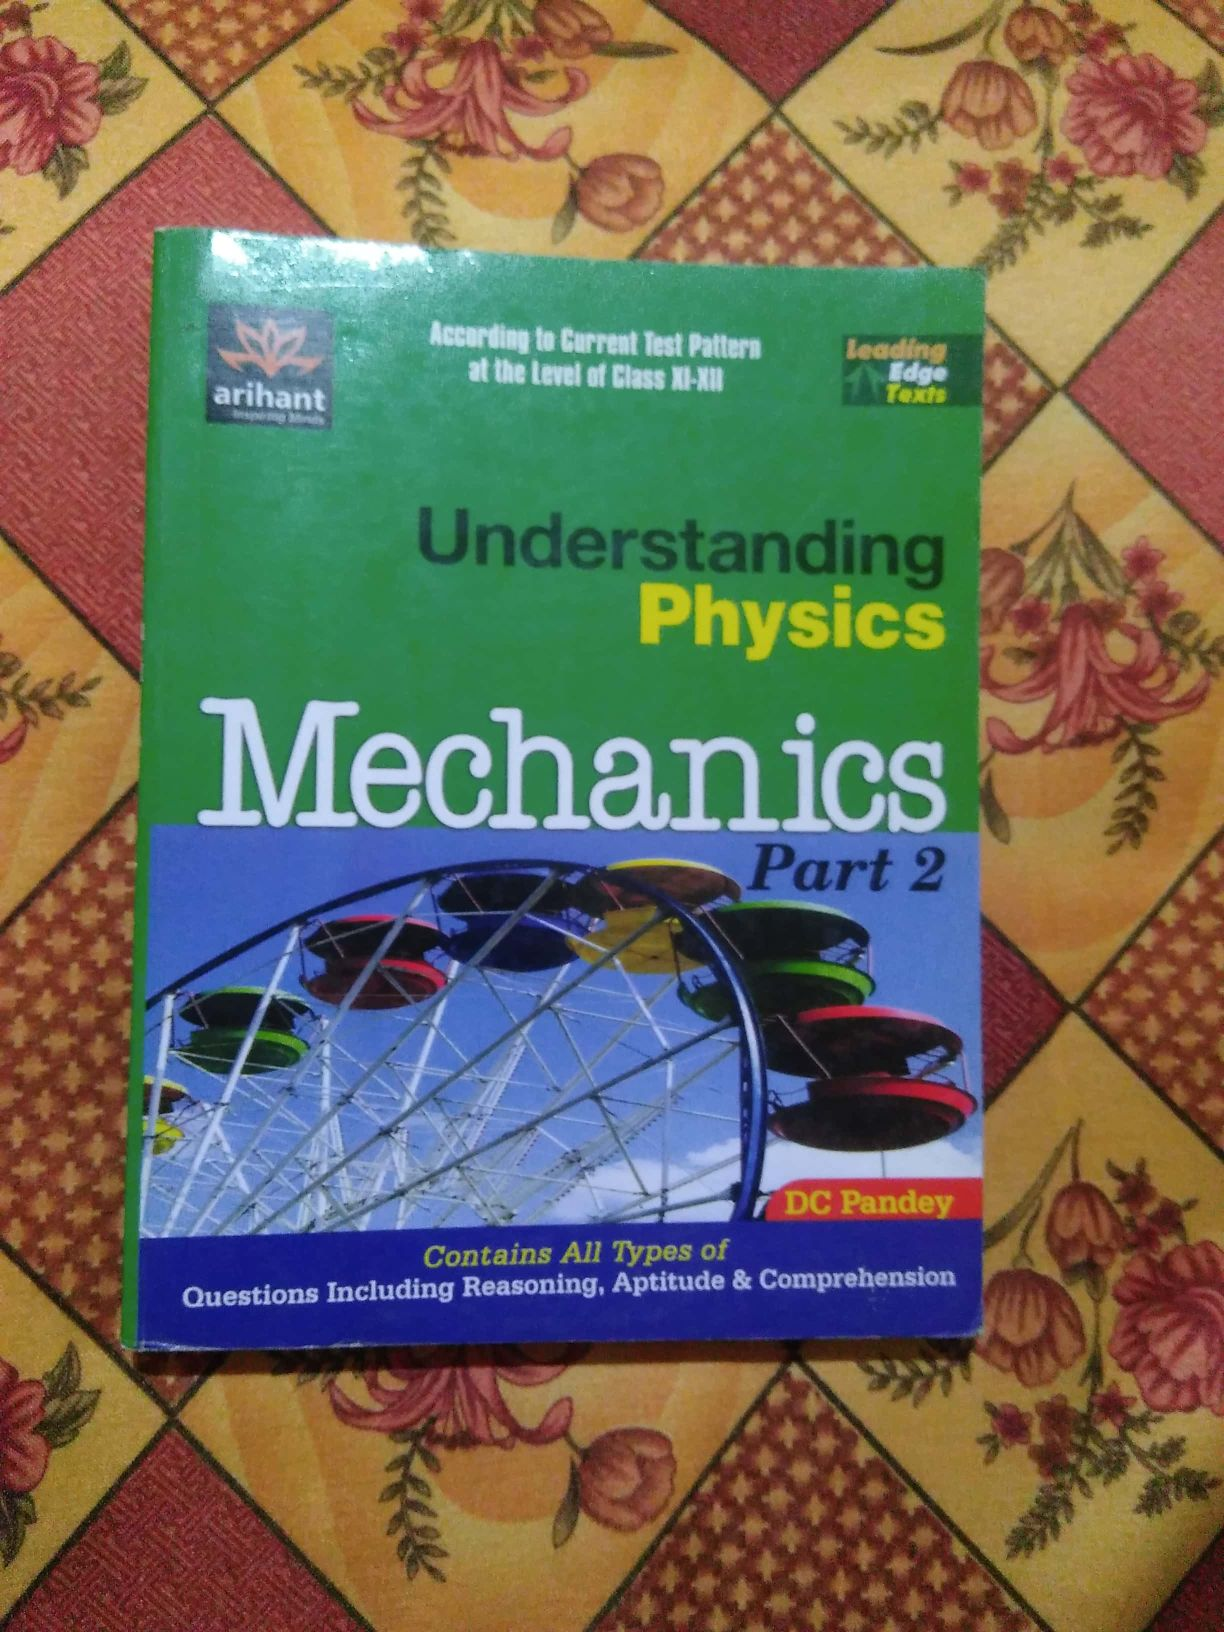mechanics: (127, 229, 1007, 1363)
